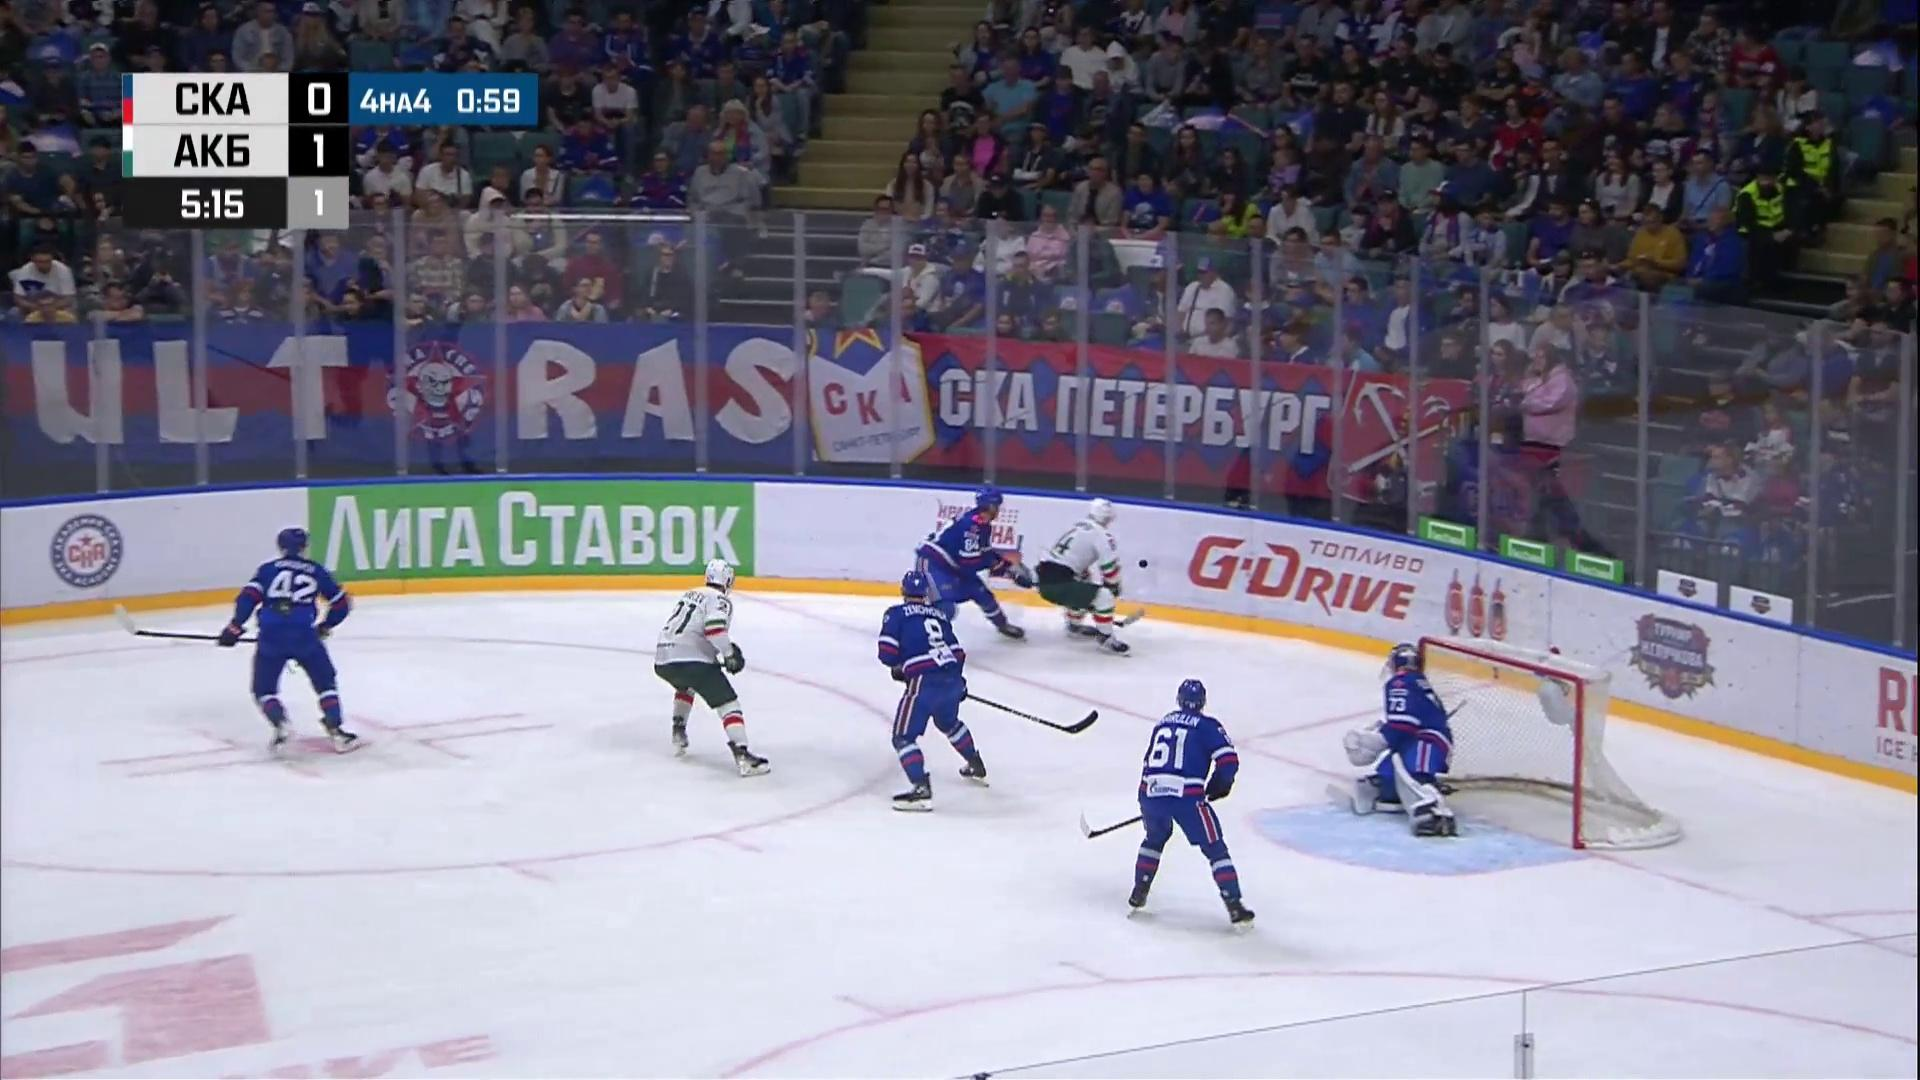ball: (1138, 559, 1149, 570)
